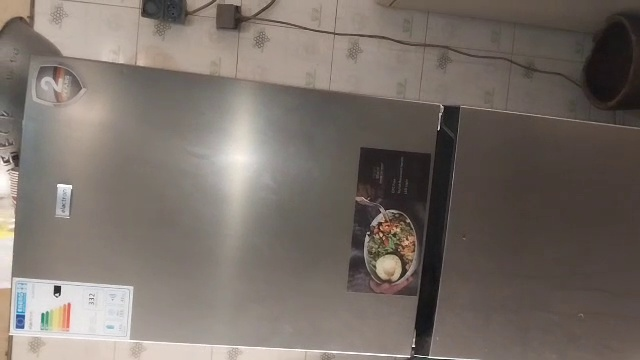refrigerator: (15, 46, 640, 360)
